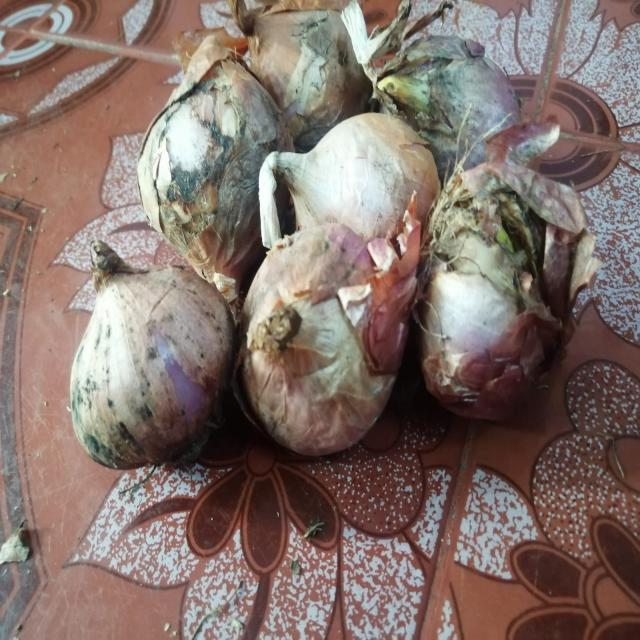rotten: (458, 195, 544, 316), (132, 122, 248, 211), (266, 293, 356, 383), (388, 60, 451, 118)
